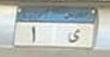1: (30, 24, 38, 44)
yaa: (66, 27, 81, 44)
